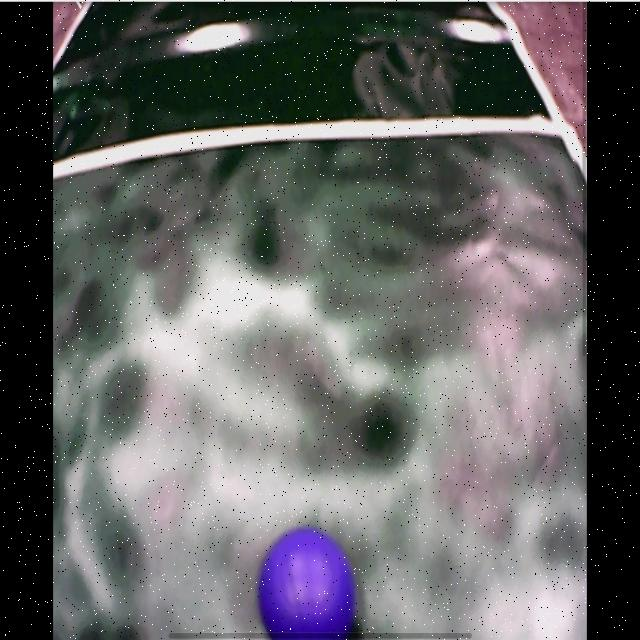ball: (259, 527, 357, 637)
